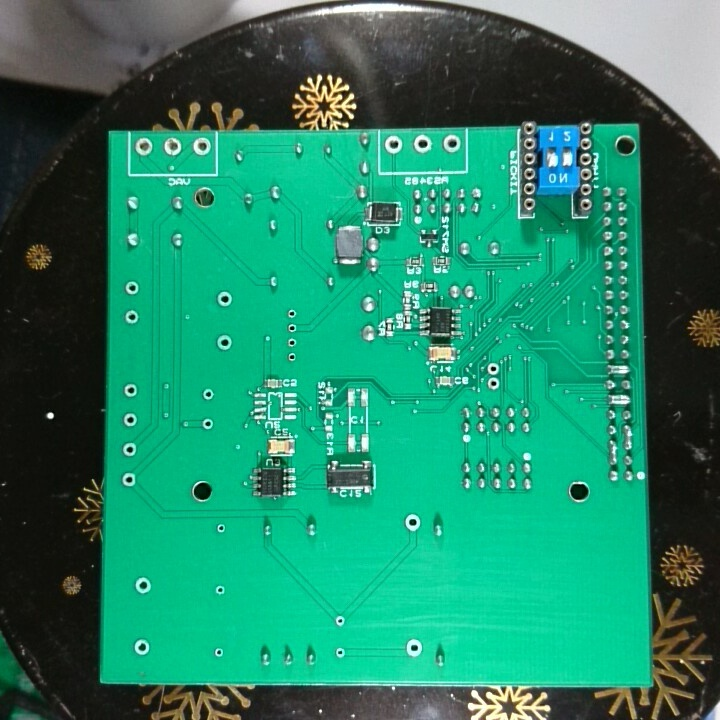F: (132, 136, 156, 160), (159, 135, 184, 158), (382, 133, 405, 158), (403, 635, 425, 660), (411, 133, 434, 156), (191, 134, 212, 158), (131, 635, 152, 658), (214, 332, 235, 355), (214, 288, 235, 310), (441, 132, 461, 155), (402, 512, 423, 533), (133, 575, 154, 596), (122, 307, 142, 328), (122, 278, 142, 299), (120, 440, 139, 461), (120, 380, 140, 399), (120, 469, 138, 490), (121, 409, 139, 429), (331, 644, 350, 661), (485, 375, 503, 392), (199, 415, 217, 432), (485, 360, 502, 377), (199, 386, 216, 403), (212, 581, 228, 599), (284, 348, 300, 366), (283, 320, 302, 335), (332, 612, 348, 629), (214, 520, 230, 537), (284, 333, 300, 350), (284, 305, 299, 322), (211, 644, 226, 660)
P: (605, 436, 621, 469), (604, 361, 634, 378), (605, 391, 634, 407), (621, 422, 635, 452)
